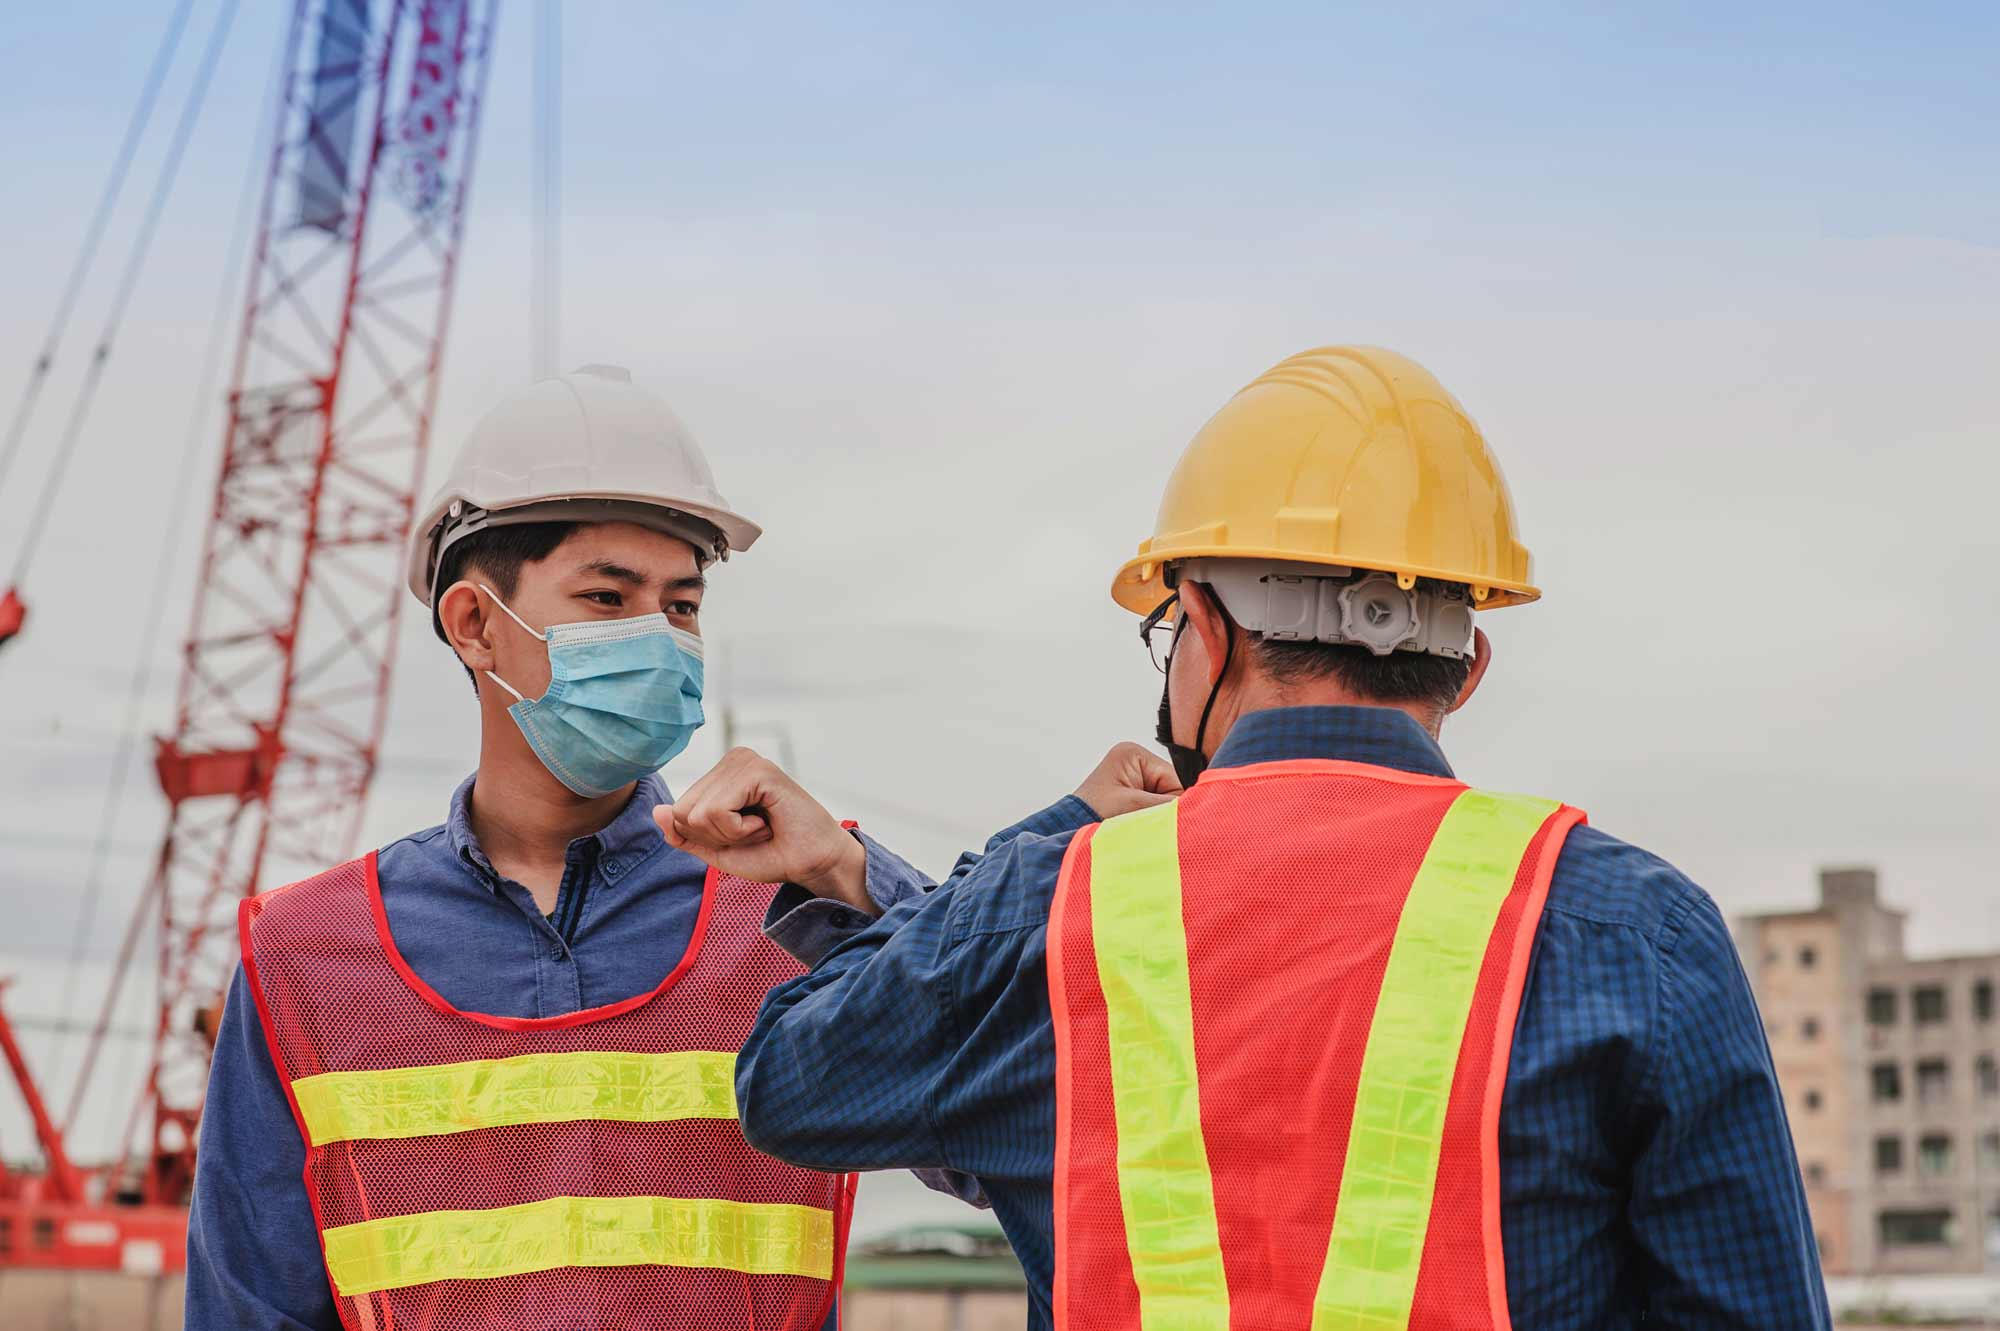jacket: (223, 853, 866, 1331), (1060, 798, 1581, 1331)
white_hat: (402, 400, 808, 573)
yellow_hat: (1111, 333, 1580, 622)
